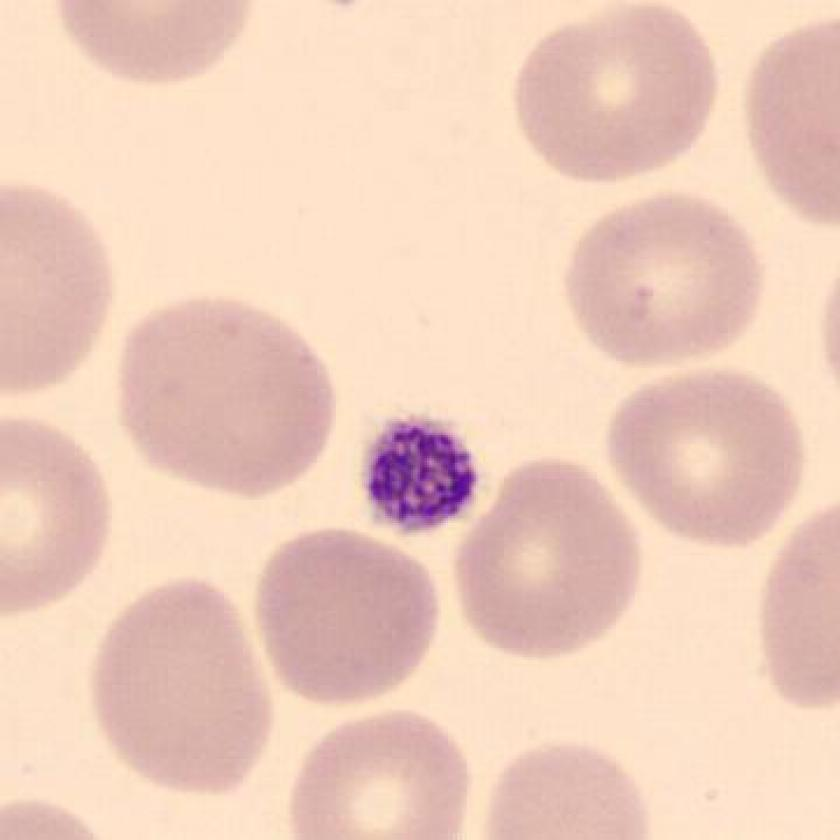platelets: (347, 404, 501, 547)
